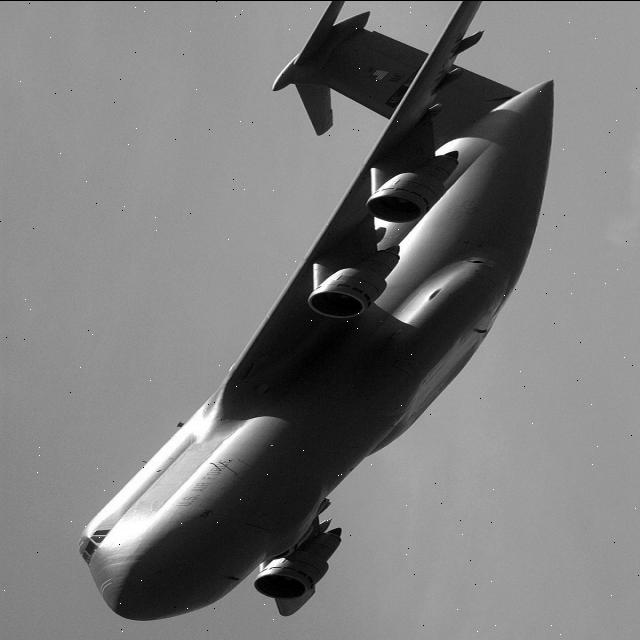C5: (50, 0, 588, 633)
